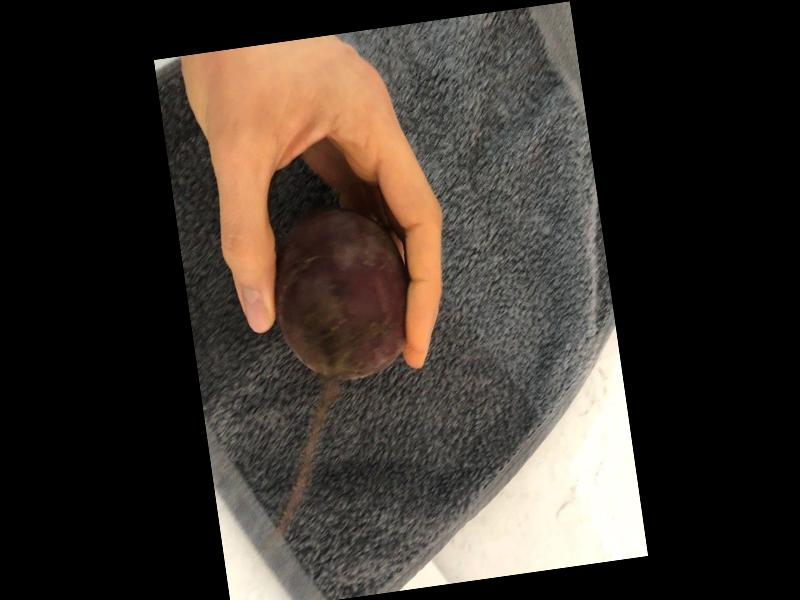Beet: (262, 198, 419, 387)
